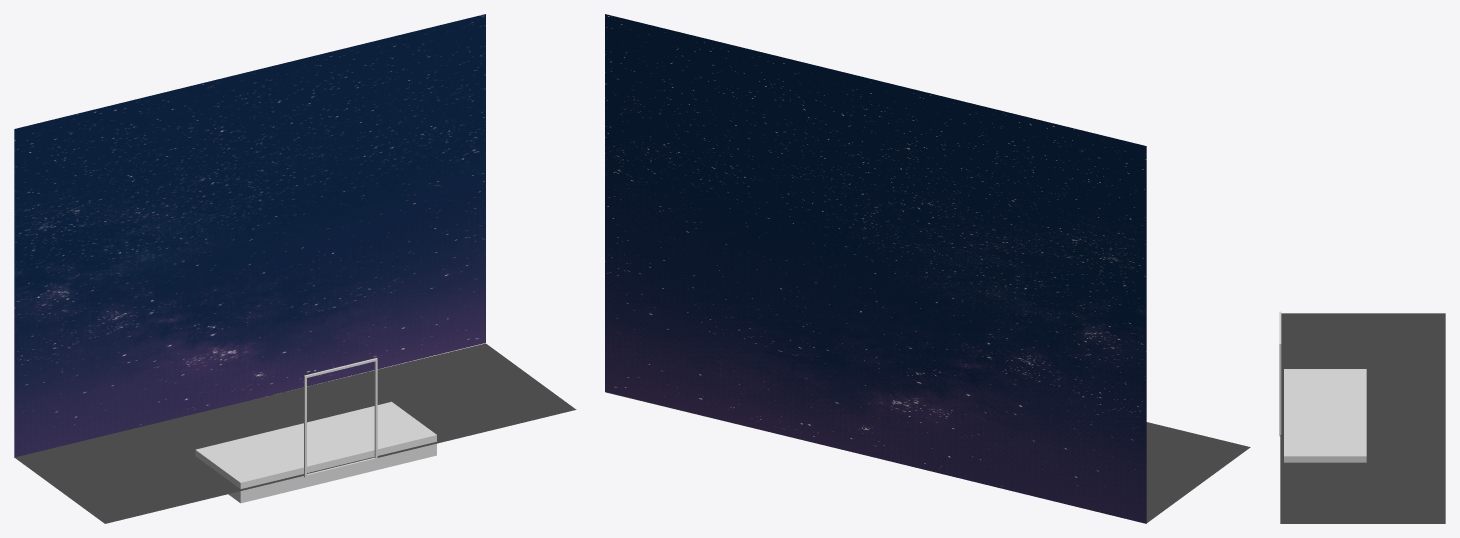
3 views of the same model, side by side, from view 1: azimuth 30°, elevation 25°; view 2: azimuth 150°, elevation 25°; view 3: azimuth 270°, elevation 25° (orthographic). The views are drawn at different scales.
Visible parts, largest first — view 1: Space, Plane, Ground; view 2: Space, Plane; view 3: Plane, Ground, Cube.004.
Part boxes in pixels (left/top/right/bottom): Space: left=14, top=14, right=485, bottom=457; Plane: left=14, top=343, right=576, bottom=523; Ground: left=195, top=401, right=436, bottom=503; Space: left=605, top=14, right=1146, bottom=523; Plane: left=605, top=392, right=1250, bottom=522; Plane: left=1280, top=313, right=1445, bottom=523; Ground: left=1284, top=369, right=1366, bottom=462; Cube.004: left=1279, top=345, right=1281, bottom=435.
Size of the model in its own units: 3.05 by 2.12 by 1.02.
2 materials, 1 textured.
